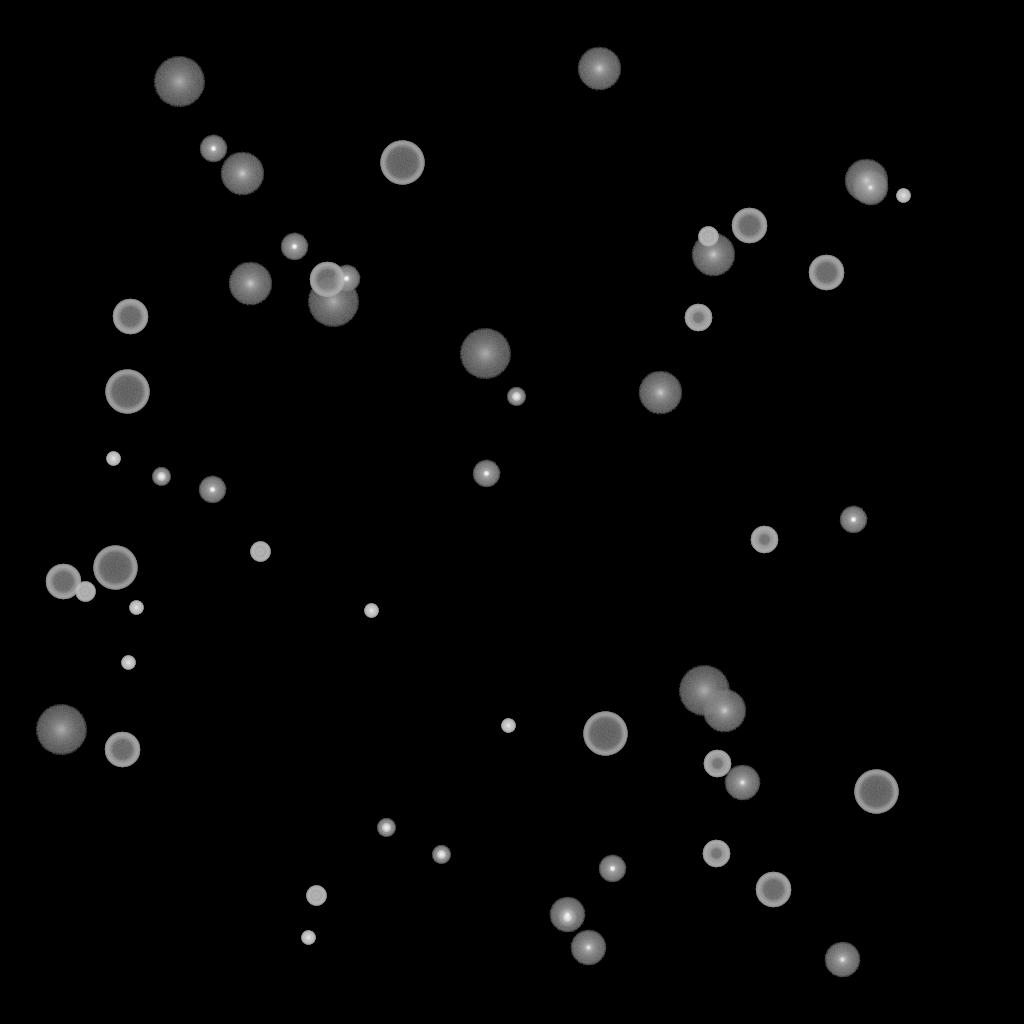depth:-10: (598, 855, 626, 883), (839, 506, 867, 534), (332, 265, 360, 293), (199, 135, 227, 163), (198, 476, 226, 504), (472, 460, 500, 488), (280, 233, 308, 261)
depth:-20: (507, 388, 525, 406), (152, 468, 170, 486), (377, 819, 395, 837), (558, 909, 576, 927), (432, 846, 450, 864)
depth:-30: (364, 604, 378, 618), (106, 452, 120, 466), (501, 719, 515, 733), (121, 656, 135, 670), (129, 601, 143, 615), (301, 931, 315, 945), (896, 189, 910, 203)
depth:-40: (75, 582, 95, 602), (698, 227, 718, 247), (306, 886, 326, 906), (250, 542, 270, 562)
depth:-50: (702, 840, 730, 868), (684, 304, 712, 332), (703, 750, 731, 778), (750, 526, 778, 554)
depth:-60: (104, 732, 140, 768), (808, 255, 844, 291), (731, 208, 767, 244), (755, 872, 791, 908), (309, 262, 345, 298), (45, 564, 81, 600), (112, 299, 148, 335)
depth:-70: (105, 370, 149, 414), (380, 141, 424, 185), (93, 546, 137, 590), (854, 770, 898, 814), (583, 712, 627, 756)
depth:0: (570, 930, 606, 966), (824, 942, 860, 978), (724, 765, 760, 801), (549, 897, 585, 933), (852, 170, 888, 206)
depth:10: (220, 152, 264, 196), (702, 689, 746, 733), (228, 262, 272, 306), (844, 159, 888, 203), (638, 371, 682, 415), (691, 233, 735, 277), (577, 47, 621, 91)
depth:20: (678, 666, 730, 716), (153, 57, 205, 107), (35, 705, 87, 755), (459, 329, 511, 379), (307, 277, 359, 327)
